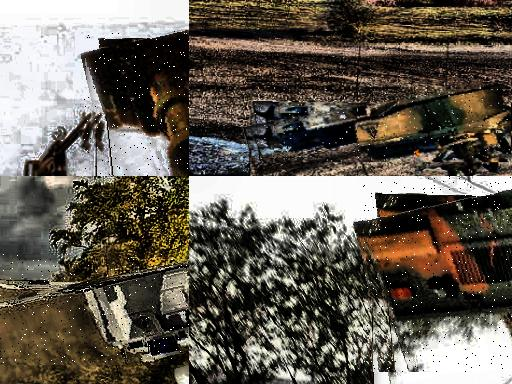tanks: (365, 190, 512, 341), (253, 84, 511, 162), (1, 261, 190, 362), (85, 31, 190, 177), (26, 117, 92, 177)
